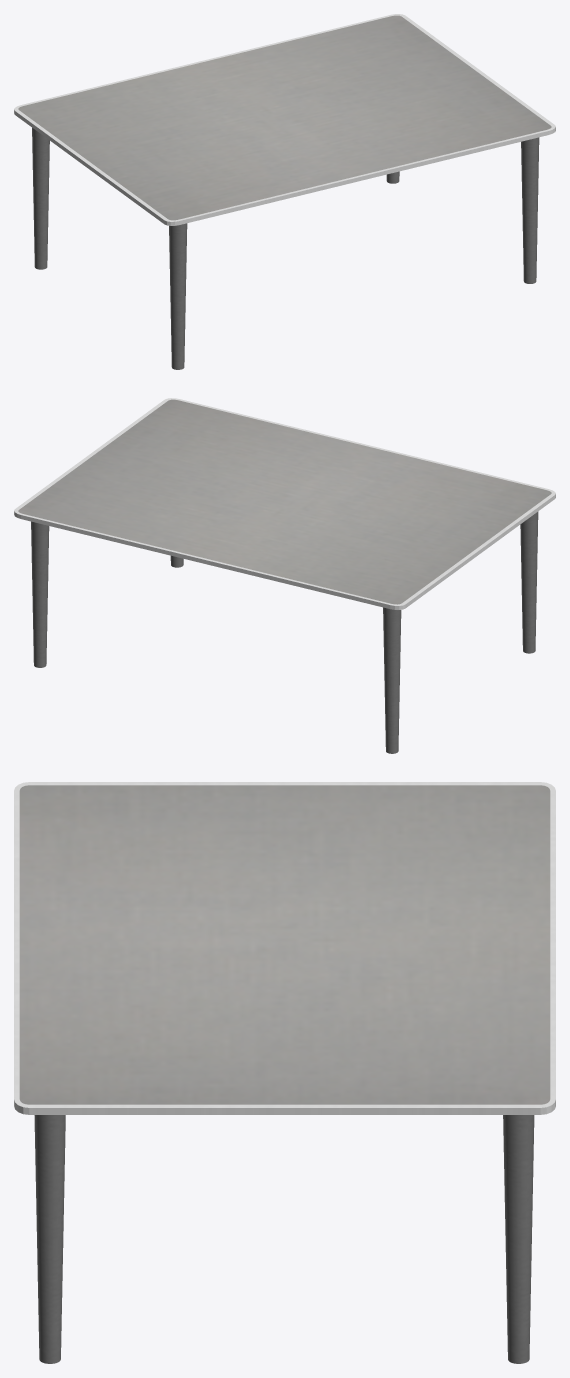
The model's file is canteen table.fbx.
3 renders of one model, top to bottom at view 1: azimuth 30°, elevation 25°; view 2: azimuth 150°, elevation 25°; view 3: azimuth 270°, elevation 25°, orthographic. The views are drawn at different scales.
Parts seen in each view (by area): view 1: canteen table; view 2: canteen table; view 3: canteen table.
Boxes of the visible parts, x1,y1,x2,y2 form: canteen table: (14, 14, 555, 369); canteen table: (14, 398, 555, 753); canteen table: (14, 782, 555, 1363).
Size of the model in its own units: 1001 by 383 by 704.
